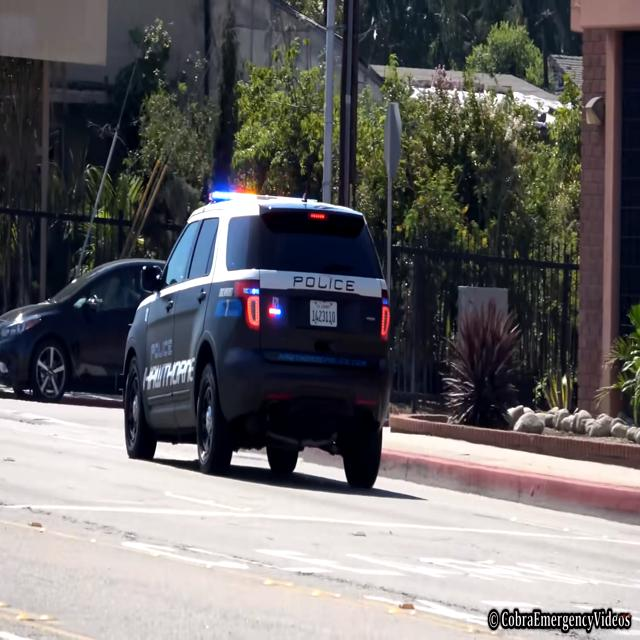emergency-vehicles: (105, 172, 413, 514)
